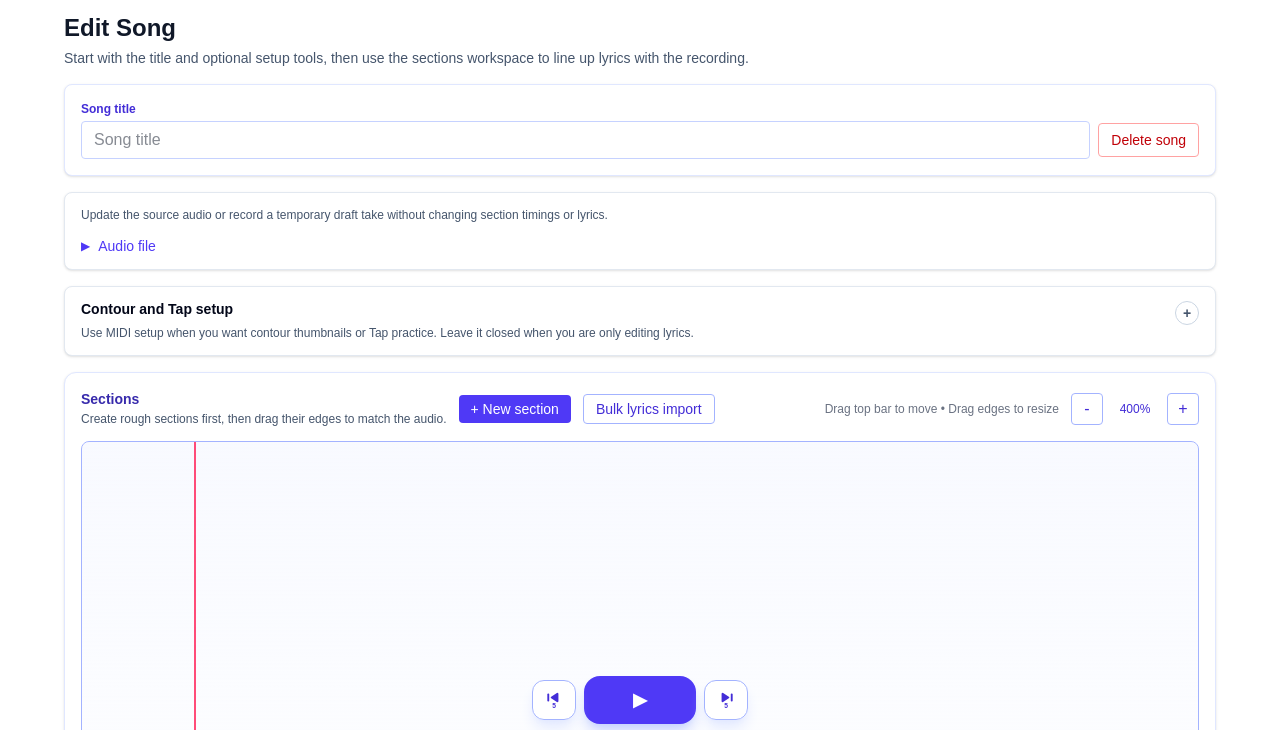
Test: SegmentEditor › moves draft recording management into the editor audio section
Click the button with test id "segment-editor-replace-audio-toggle". click: (118, 246)
box: 81,236 -> 156,256
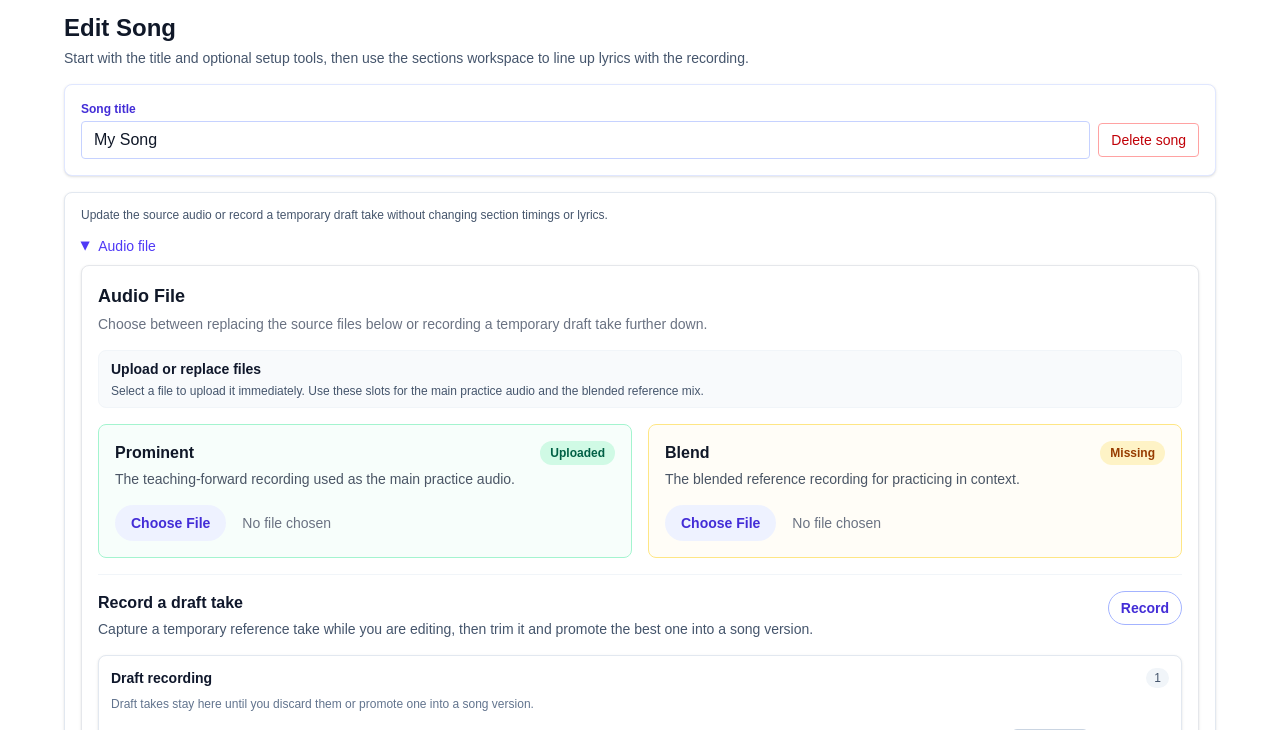
Check: the heading "Record a draft take" is shown, box 98,594 -> 243,611
Check: the text "Draft takes stay here until you discard them or promote one into a song version." is shown, box 111,697 -> 534,711
Check: the button with test id "draft-recording-toggle" is shown, box 1108,591 -> 1182,625
